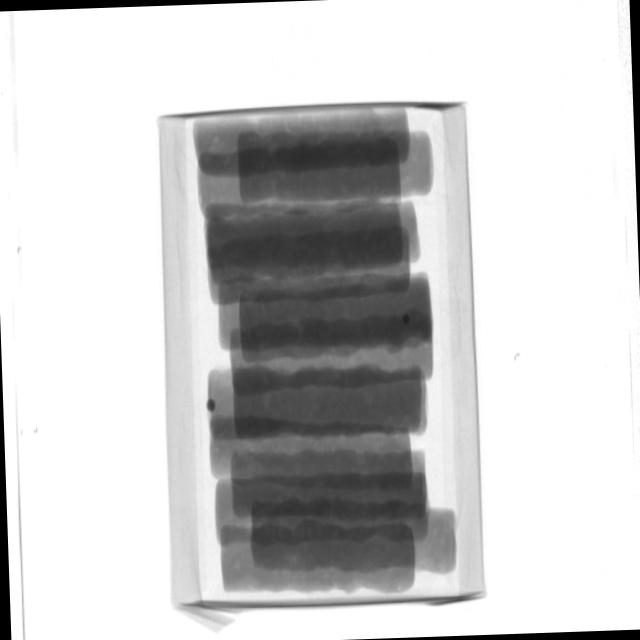ym: (206, 398, 218, 415), (403, 315, 410, 323)
